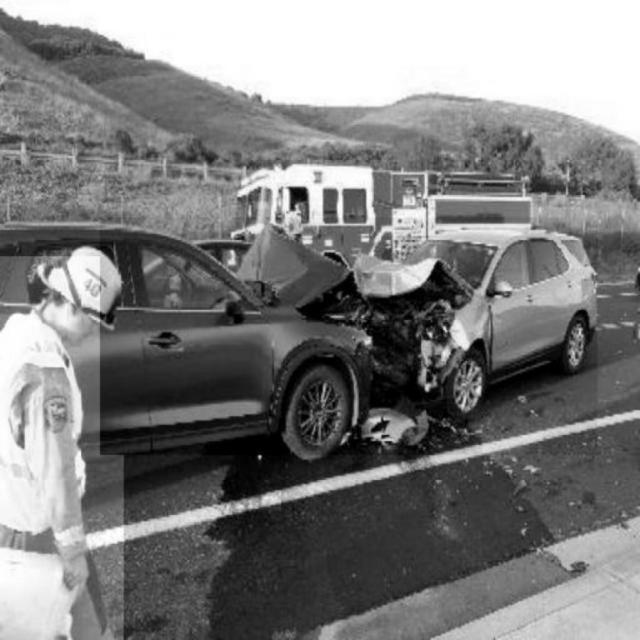accident: (99, 218, 597, 455)
person: (0, 256, 124, 640)
